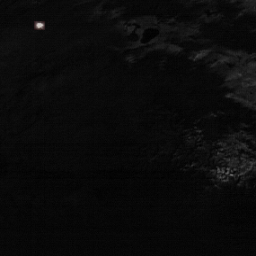Target: (34, 21, 43, 28)
